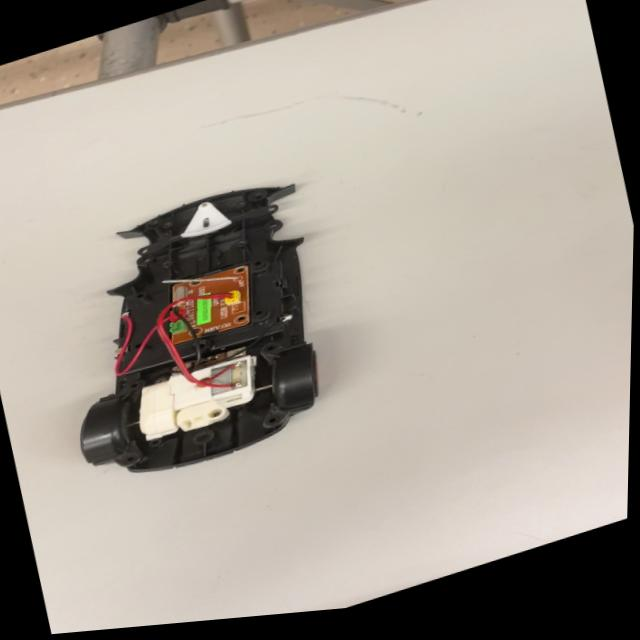Chassis: (45, 161, 340, 502)
